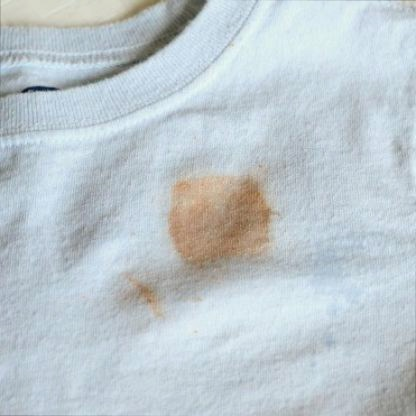kimchi: (165, 177, 286, 271), (121, 266, 163, 324)
